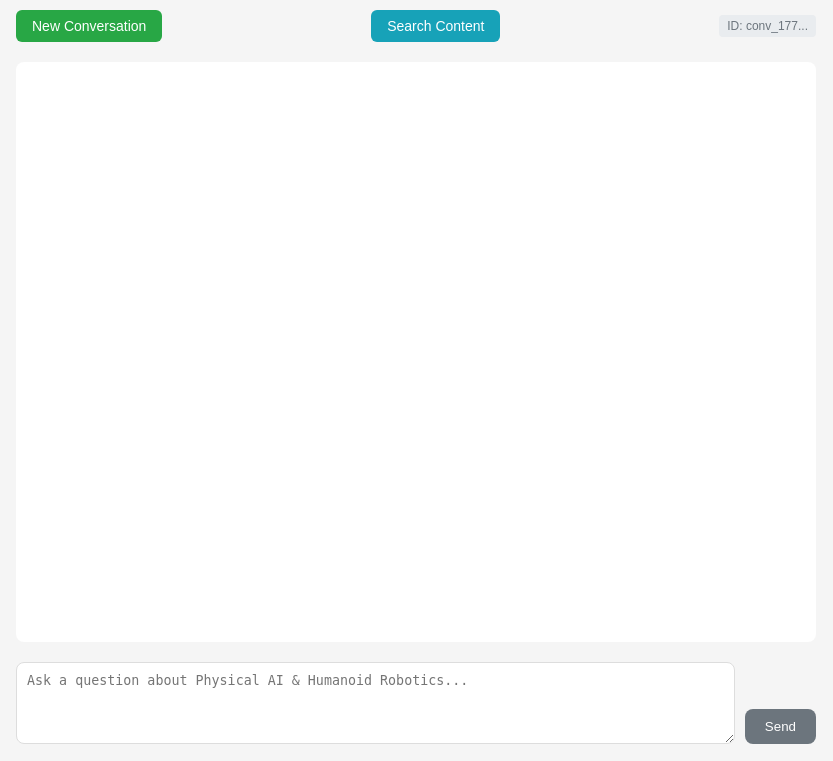
it: ChatInterface Component › displays bot response after sending a message
(page scrolled)
// Type and send a message
Type "Test query" into the text box with placeholder "Ask a question about Physical AI & Humanoid Robotics...".
click(375, 703); type("Test query")  # box [16, 662, 735, 744]
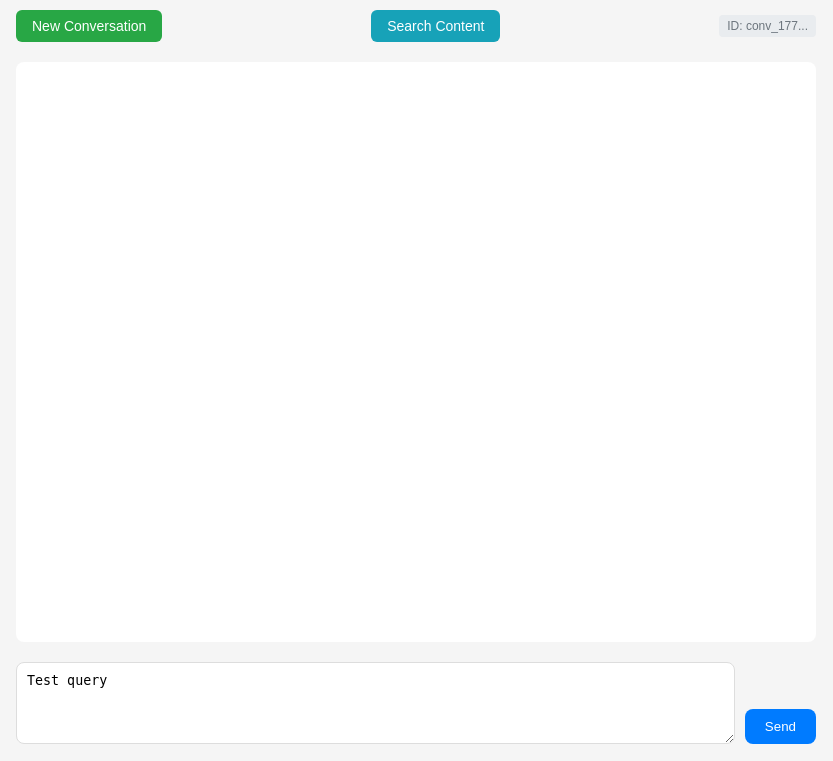
Click the button "Send".
click(780, 726)  # box [745, 709, 816, 744]
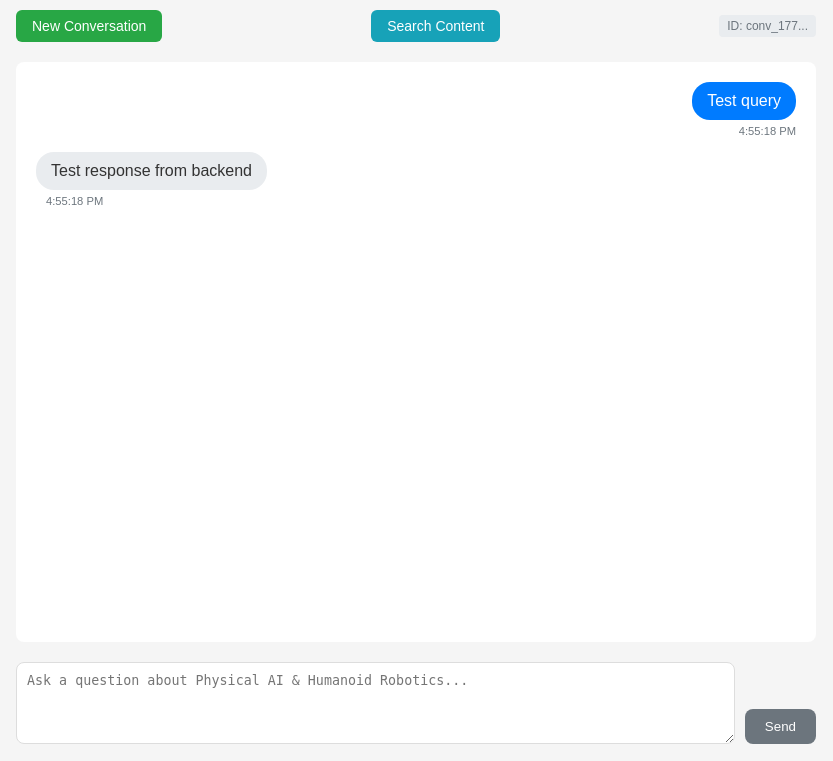
Check: the text "Test response from backend" is shown, box [36, 152, 267, 190]
